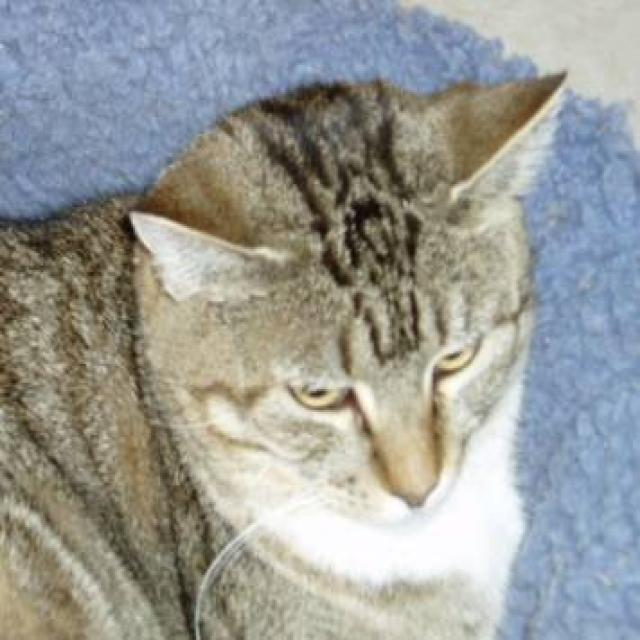cat: (0, 67, 568, 638)
